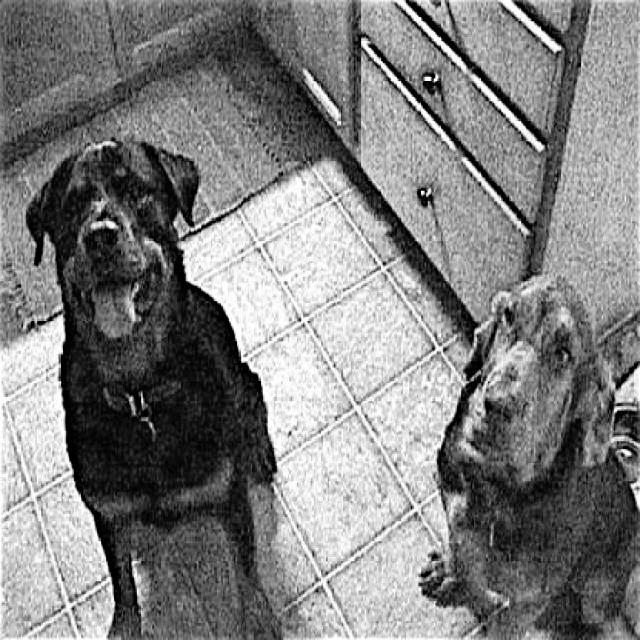Dog: (16, 117, 287, 640), (417, 266, 640, 640)
